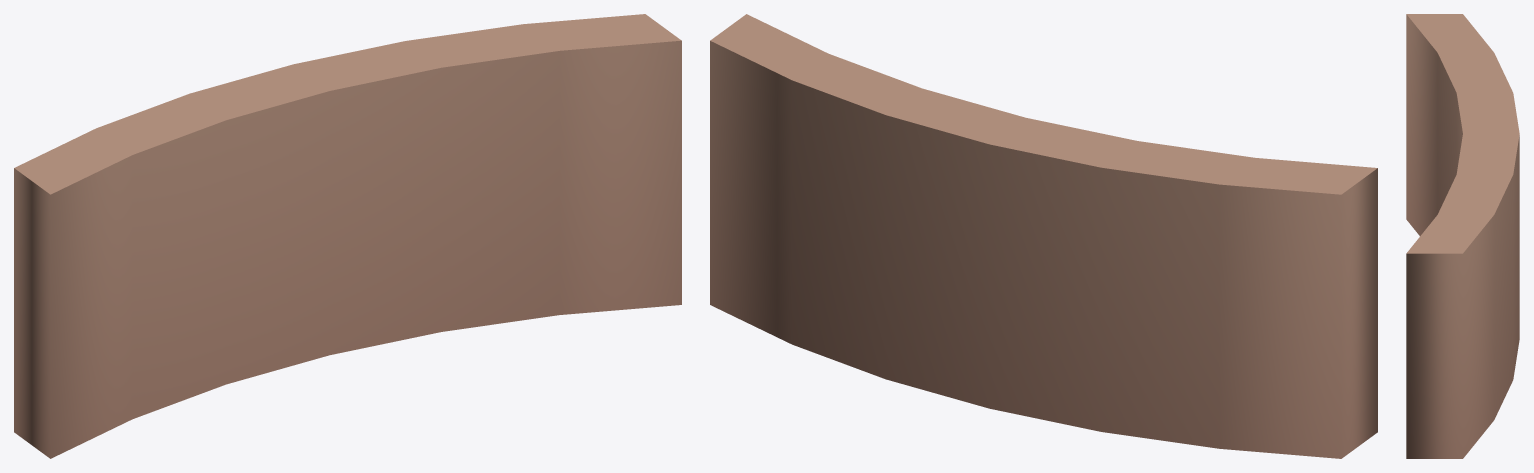
File: planks-plank-curved-thin.glb
The picture shows the model from 3 angles, left to right: view 1: azimuth 30°, elevation 25°; view 2: azimuth 150°, elevation 25°; view 3: azimuth 270°, elevation 25°; orthographic projection. The views are drawn at different scales.
Parts seen in each view (by area): view 1: planks-plank-curved-thin; view 2: planks-plank-curved-thin; view 3: planks-plank-curved-thin.
Part boxes in pixels (x1,y1,x2,y2): planks-plank-curved-thin: (14,14,681,458); planks-plank-curved-thin: (710,14,1377,458); planks-plank-curved-thin: (1406,14,1519,458).
Size of the model in its own units: 0.5 by 0.2 by 0.1.
